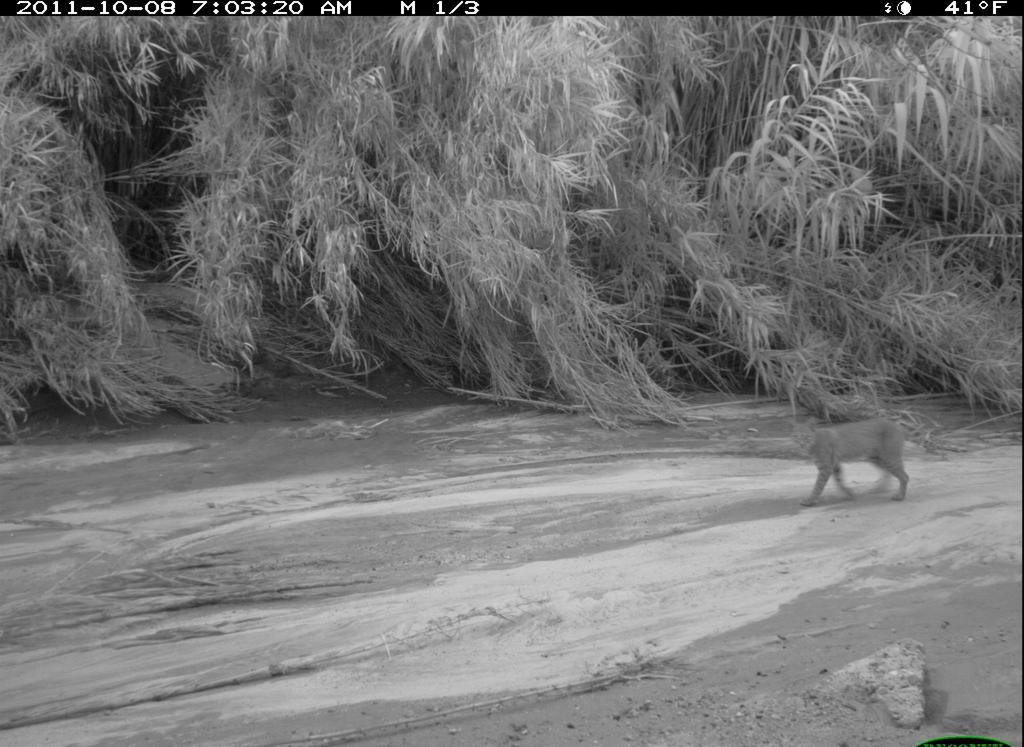bobcat: (783, 414, 949, 514)
